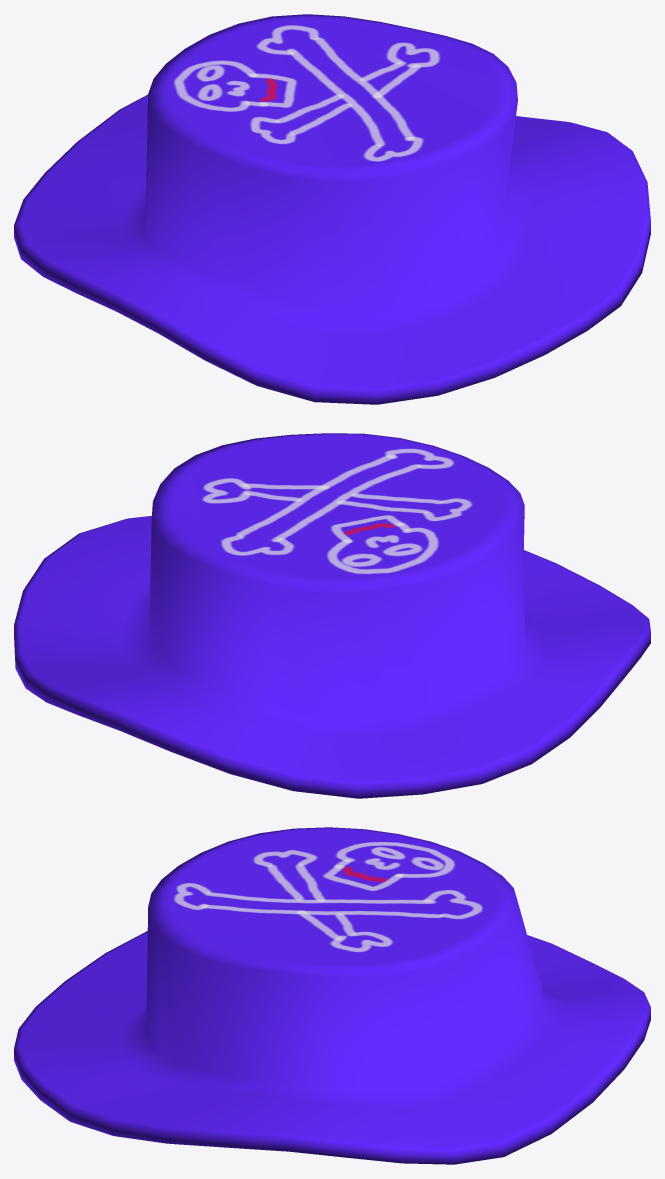
Rendered from plague_hat.fbx.
3 views of the same model, one above another, from view 1: azimuth 30°, elevation 25°; view 2: azimuth 150°, elevation 25°; view 3: azimuth 270°, elevation 25° (orthographic). The views are drawn at different scales.
Parts seen in each view (by area): view 1: PlagueHat; view 2: PlagueHat; view 3: PlagueHat.
Boxes of the visible parts, <box> form: PlagueHat: <box>14,14,650,404</box>; PlagueHat: <box>14,433,650,798</box>; PlagueHat: <box>14,827,650,1164</box>.
Size of the model in its own units: 338 by 108 by 352.
